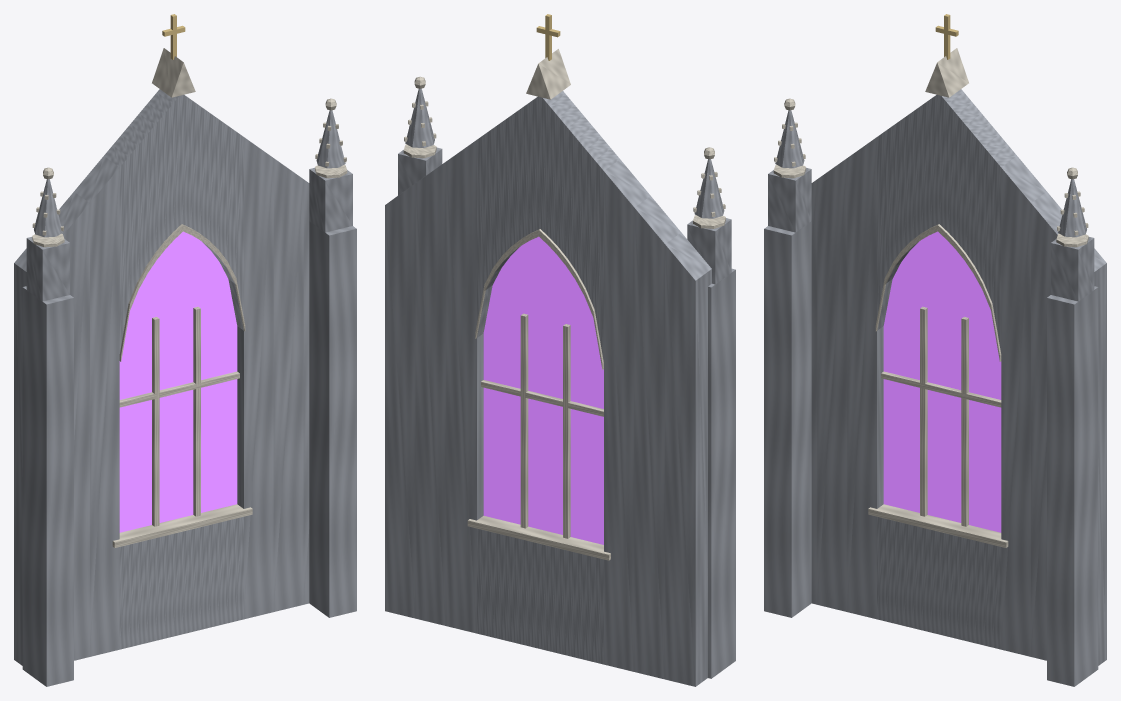
3 renders of one model, left to right at view 1: azimuth 30°, elevation 25°; view 2: azimuth 150°, elevation 25°; view 3: azimuth 330°, elevation 25°, orthographic. The views are drawn at different scales.
Visible parts, largest first — view 1: transept-gable-wall; view 2: transept-gable-wall; view 3: transept-gable-wall.
Part boxes in pixels (box(x1,y1,x2,y2)): transept-gable-wall: box(14, 14, 356, 686); transept-gable-wall: box(385, 14, 735, 686); transept-gable-wall: box(764, 14, 1106, 686).
Bounding box in the file's own units: 9.04 × 17 × 1.9.
Materials: 4 (2 with a texture image).
